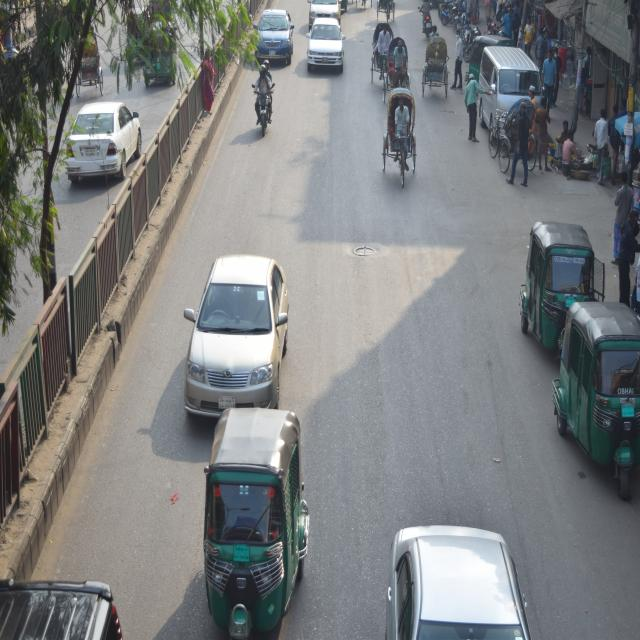car: (385, 510, 533, 640), (173, 245, 284, 407), (63, 96, 145, 183), (250, 10, 294, 70), (307, 26, 343, 76), (306, 0, 340, 20)
motorbike: (479, 44, 543, 151), (247, 75, 274, 139), (423, 5, 435, 46)
